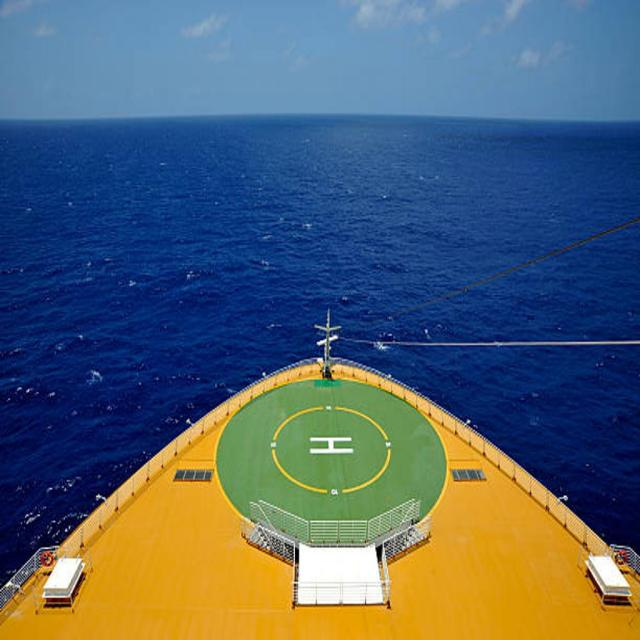helipad: (270, 402, 392, 497)
